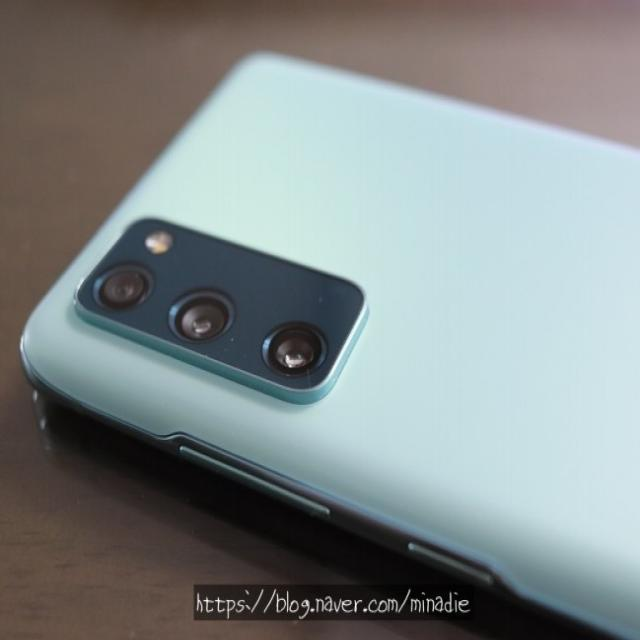lens: (74, 215, 365, 401)
phone: (19, 53, 640, 640)
